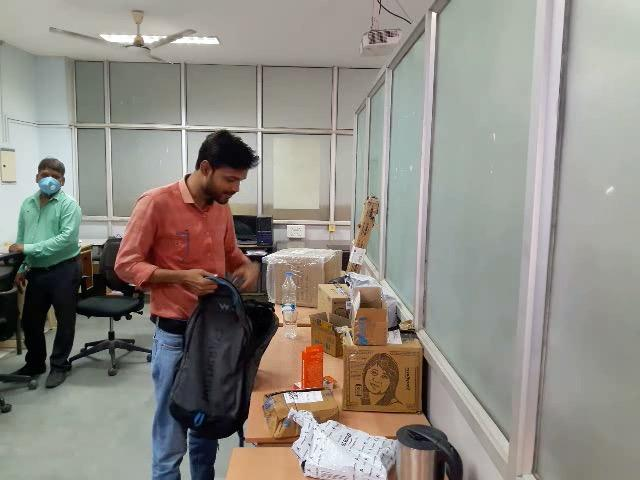shoplifting: (119, 208, 291, 480)
